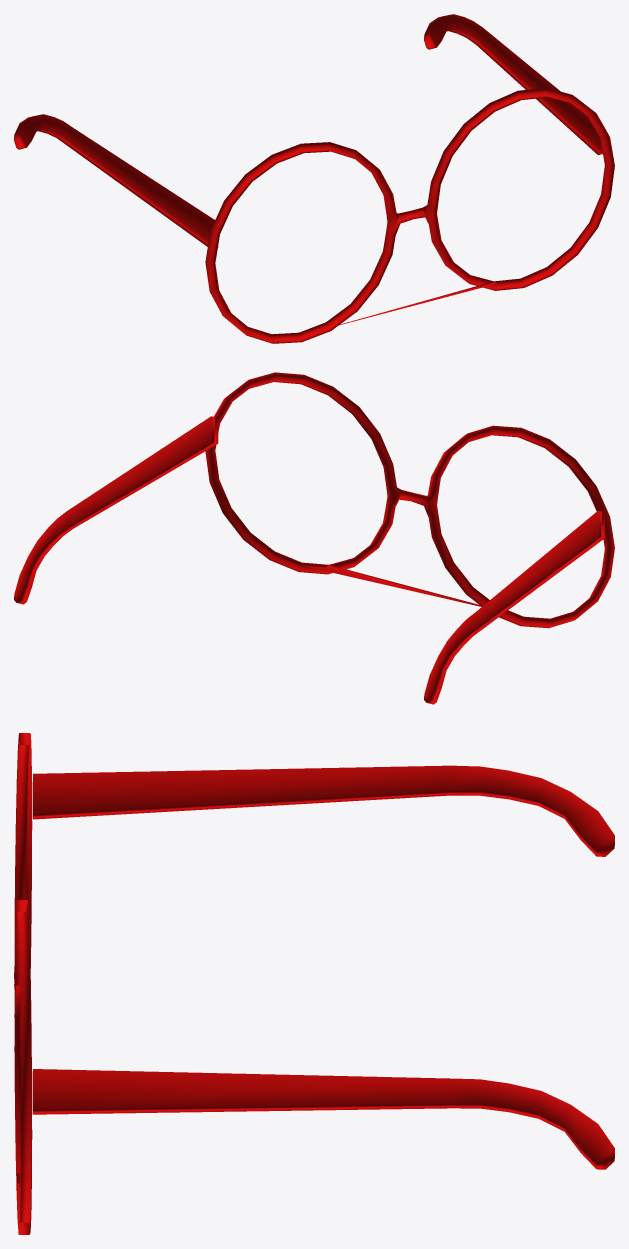
Rendered from UpperFace_RoundGlasses.glb.
3 renders of one model, top to bottom at view 1: azimuth 30°, elevation 25°; view 2: azimuth 150°, elevation 25°; view 3: azimuth 270°, elevation 25°, orthographic. The views are drawn at different scales.
Parts seen in each view (by area): view 1: UpperFace_RoundGlasses; view 2: UpperFace_RoundGlasses; view 3: UpperFace_RoundGlasses.
Boxes of the visible parts, bbox=[...] form: UpperFace_RoundGlasses: bbox=[14, 14, 614, 343]; UpperFace_RoundGlasses: bbox=[14, 372, 614, 704]; UpperFace_RoundGlasses: bbox=[14, 733, 614, 1234].
Size of the model in its own units: 0.1863 by 0.0832 by 0.1484.
